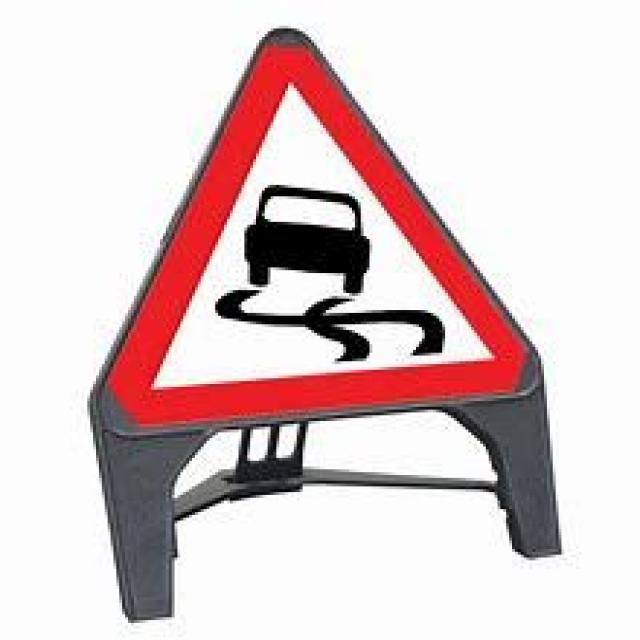SLIPPERY_ROAD: (80, 15, 552, 433)
